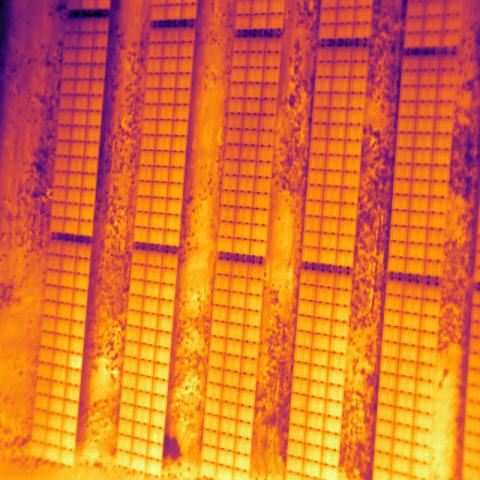fault: (67, 352, 83, 372)
